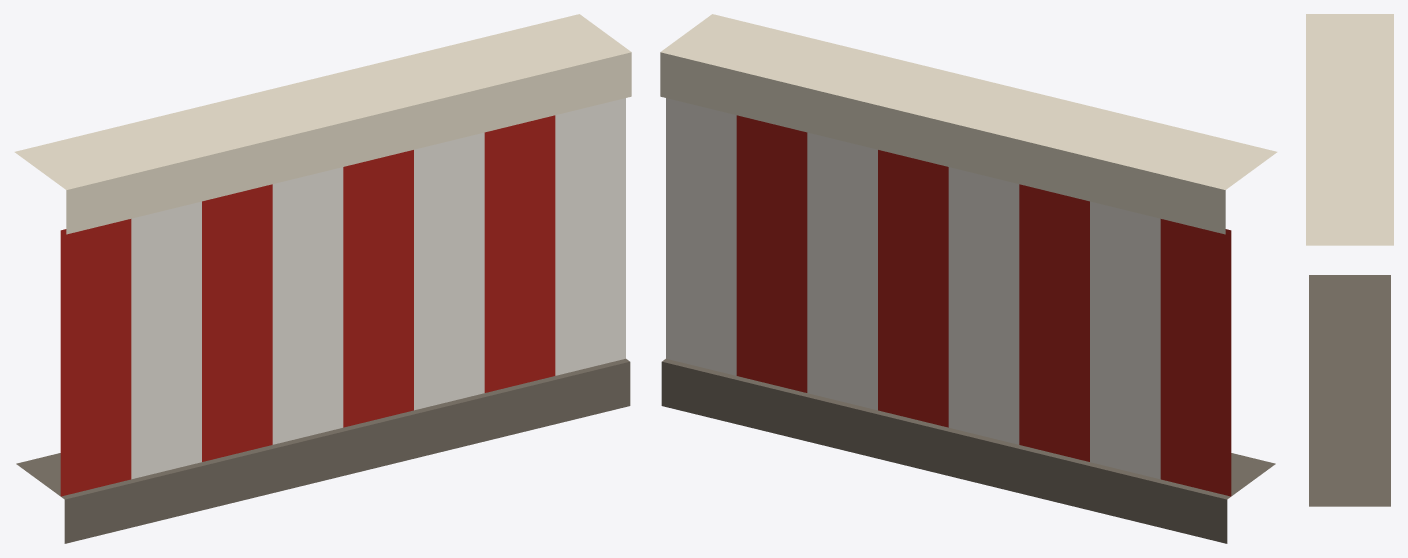
Rendered from prop_temple_wall.glb.
The picture shows the model from 3 angles, left to right: view 1: azimuth 30°, elevation 25°; view 2: azimuth 150°, elevation 25°; view 3: azimuth 270°, elevation 25°; orthographic projection. The views are drawn at different scales.
Parts seen in each view (by area): view 1: prop_temple_wall; view 2: prop_temple_wall; view 3: prop_temple_wall.
Part boxes in pixels (x1,y1,x2,y2): prop_temple_wall: [14, 14, 631, 543]; prop_temple_wall: [660, 14, 1277, 543]; prop_temple_wall: [1306, 14, 1393, 506].
Size of what is drawn, in the model's own units: 4 by 2.4 by 0.64.
